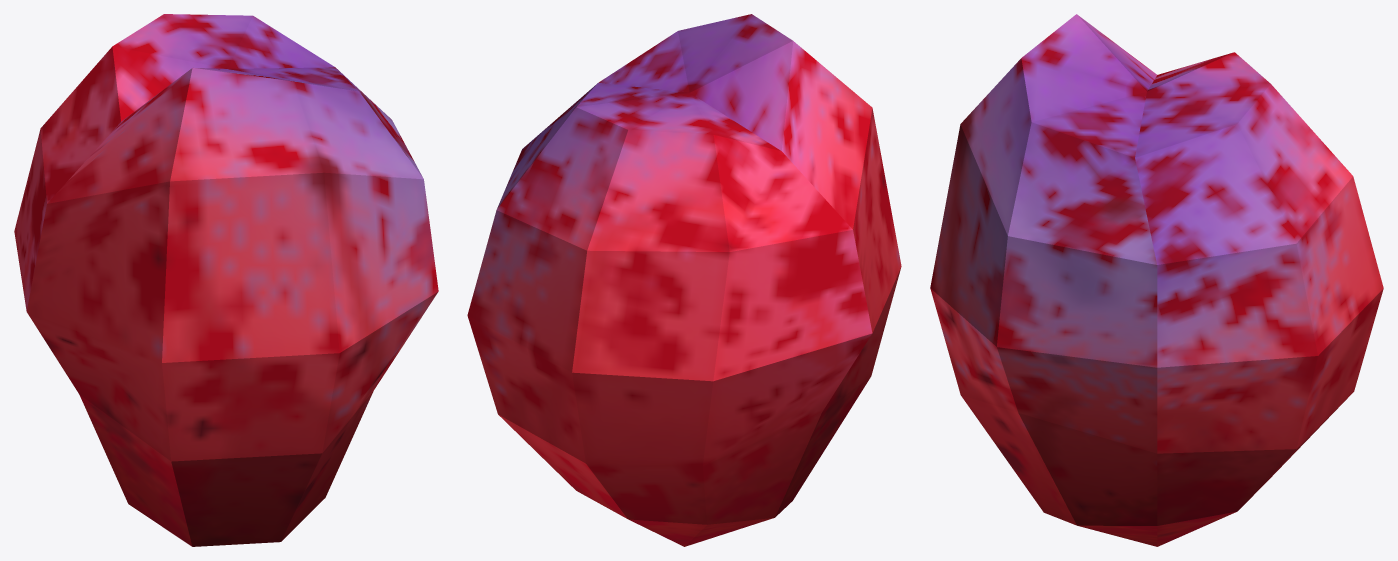
File: Digdig hjärta.fbx
The picture shows the model from 3 angles, left to right: view 1: azimuth 30°, elevation 25°; view 2: azimuth 150°, elevation 25°; view 3: azimuth 270°, elevation 25°; orthographic projection. The views are drawn at different scales.
Visible parts, largest first — view 1: pSphere1; view 2: pSphere1; view 3: pSphere1.
Boxes of the visible parts, x1,y1,x2,y2 form: pSphere1: (14,14,438,546); pSphere1: (467,14,901,546); pSphere1: (930,14,1383,546).
Bounding box in the file's own units: 1.8 × 2.42 × 2.
